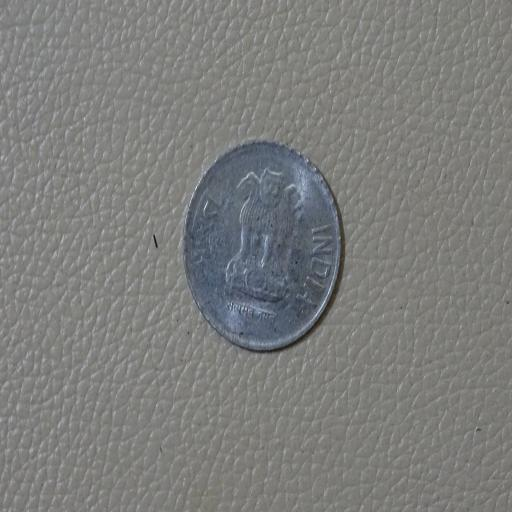rupee2: (179, 140, 342, 350)
